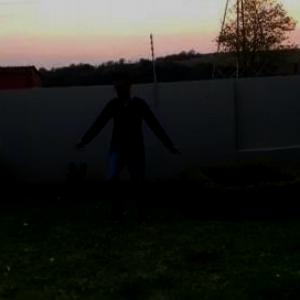land: (72, 60, 189, 230)
